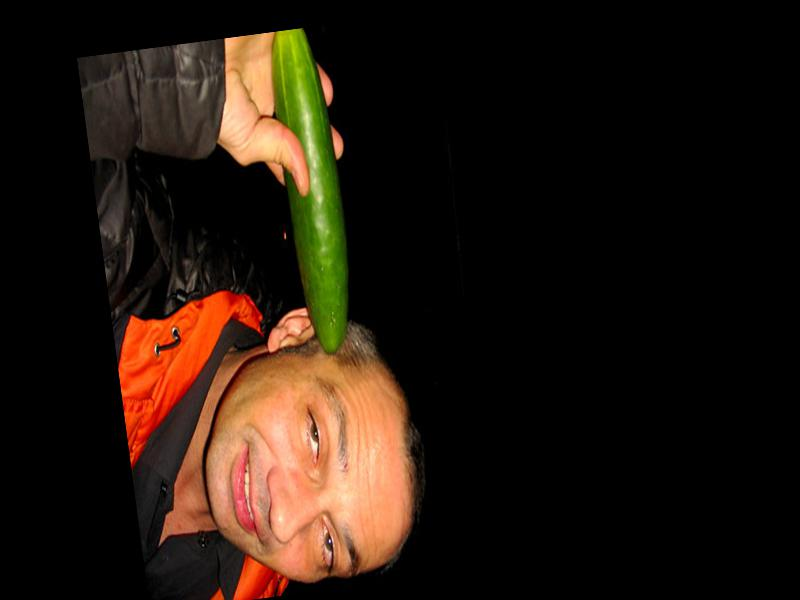Cucumber: (265, 27, 360, 359)
